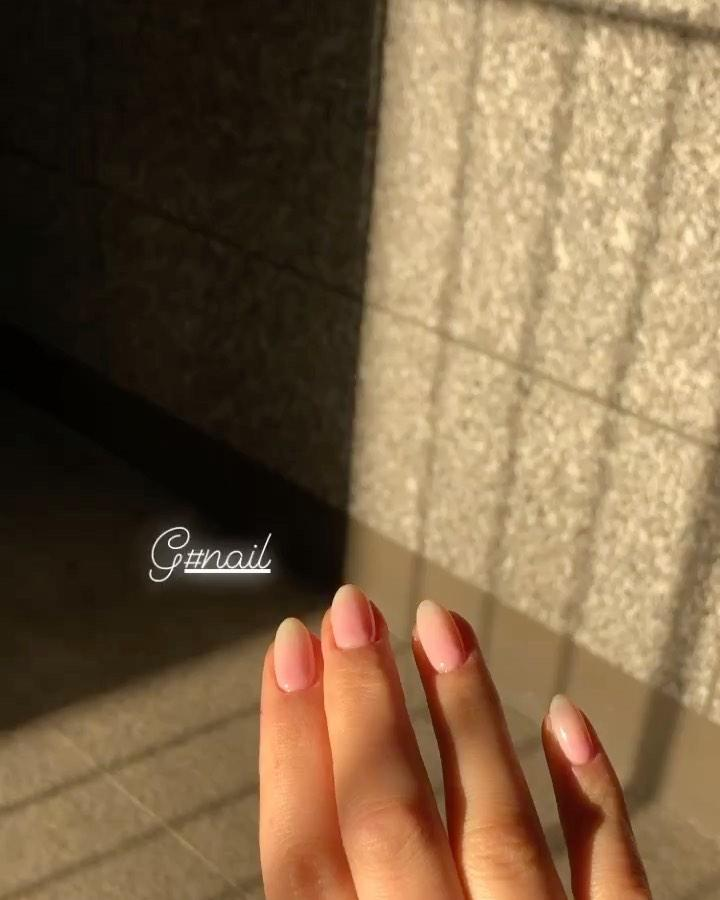nail: (414, 598, 465, 673), (547, 692, 596, 765), (271, 616, 316, 693), (329, 582, 374, 649)
